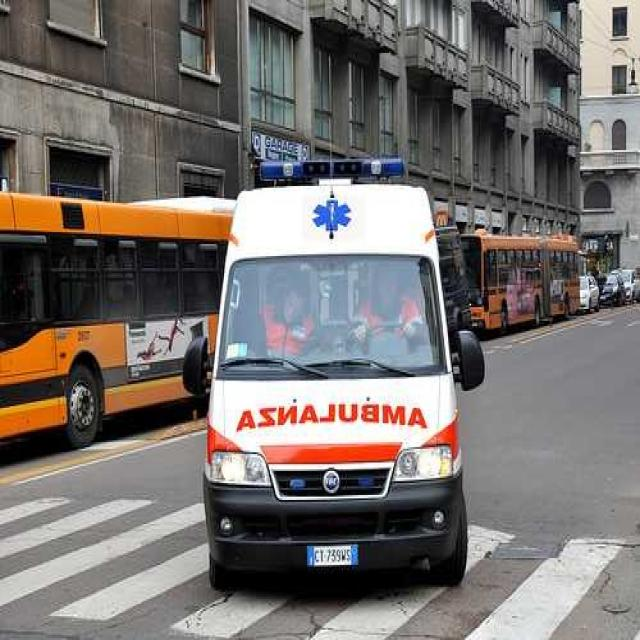ambulance: (199, 125, 509, 605)
